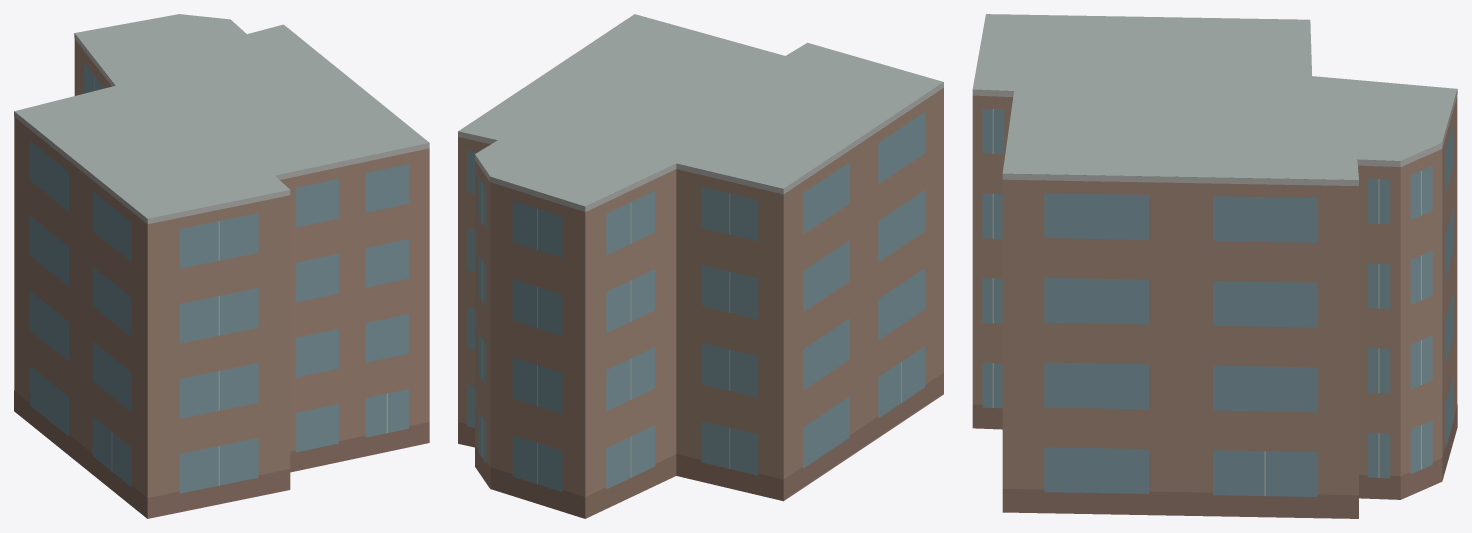
Rendered from survey-upis-32640258.glb.
The picture shows the model from 3 angles, left to right: view 1: azimuth 30°, elevation 25°; view 2: azimuth 150°, elevation 25°; view 3: azimuth 270°, elevation 25°; orthographic projection. The views are drawn at different scales.
Parts seen in each view (by area): view 1: survey-upis-32640258.tmp; view 2: survey-upis-32640258.tmp; view 3: survey-upis-32640258.tmp.
Boxes of the visible parts, x1,y1,x2,y2 form: survey-upis-32640258.tmp: (14,14,429,518); survey-upis-32640258.tmp: (458,14,943,518); survey-upis-32640258.tmp: (972,14,1457,518).
Bounding box in the file's own units: 14.25 × 13.55 × 17.58.
